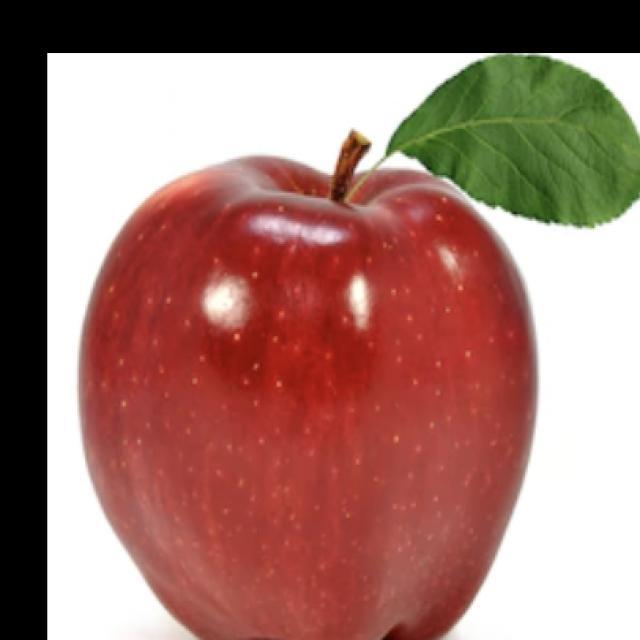Fresh Apple: (108, 146, 529, 640)
